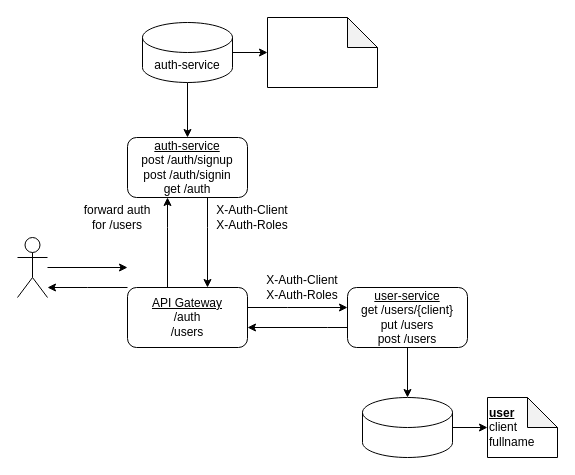
Some shapes in this 575 by 475 pixel diagram are drawn without their labels. Each missing label, with the box of its shape:
client: (16, 236, 48, 298)
client_details client secret roles: (266, 16, 378, 88)
user-service: (362, 396, 452, 458)
